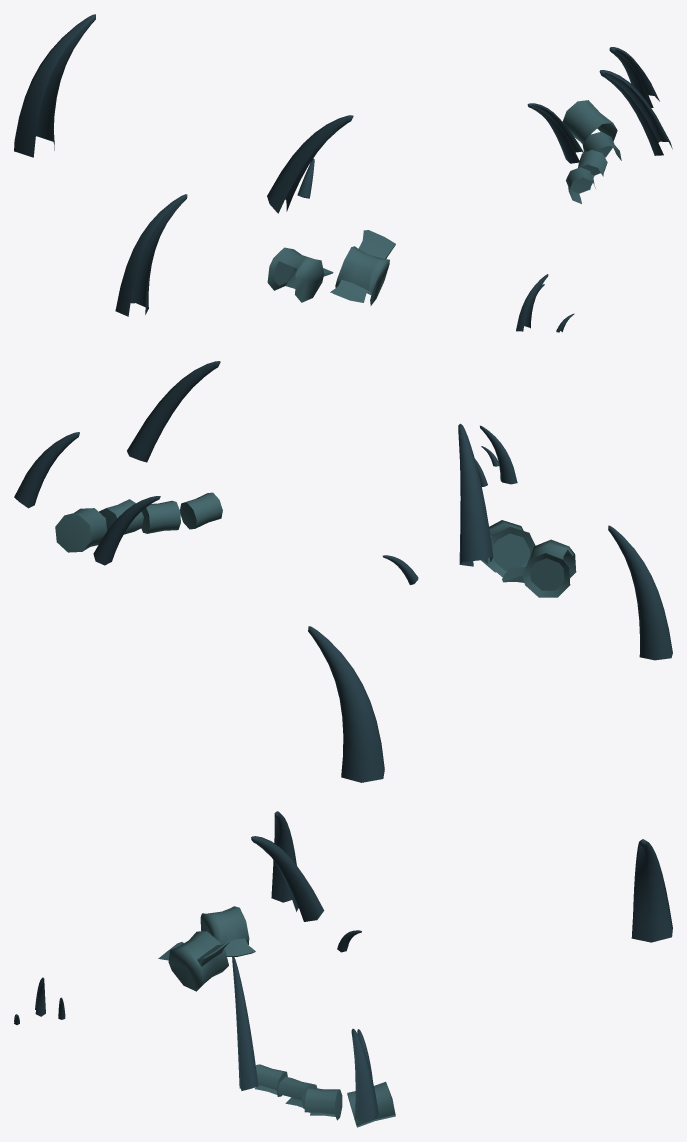
The model's file is GoblinMap02_Bone.fbx.
3 views of the same model, one above another, from view 1: azimuth 30°, elevation 25°; view 2: azimuth 150°, elevation 25°; view 3: azimuth 270°, elevation 25° (orthographic). The views are drawn at different scales.
Parts seen in each view (by area): view 1: Bone02, Bone01; view 2: Bone02, Bone01; view 3: Bone02, Bone01.
Boxes of the visible parts, <box> form: Bone02: <box>14,14,672,332</box>; Bone01: <box>267,100,621,305</box>; Bone02: <box>14,361,672,782</box>; Bone01: <box>55,492,576,597</box>; Bone02: <box>14,811,672,1120</box>; Bone01: <box>158,906,395,1127</box>.
Size of the model in its own units: 1541 by 408 by 1551.
